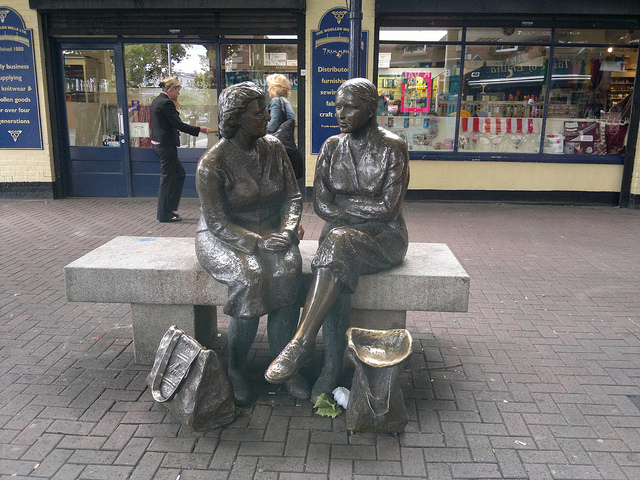person: (147, 75, 219, 225), (260, 71, 308, 180)
person-like: (261, 75, 413, 409), (191, 80, 310, 407)
